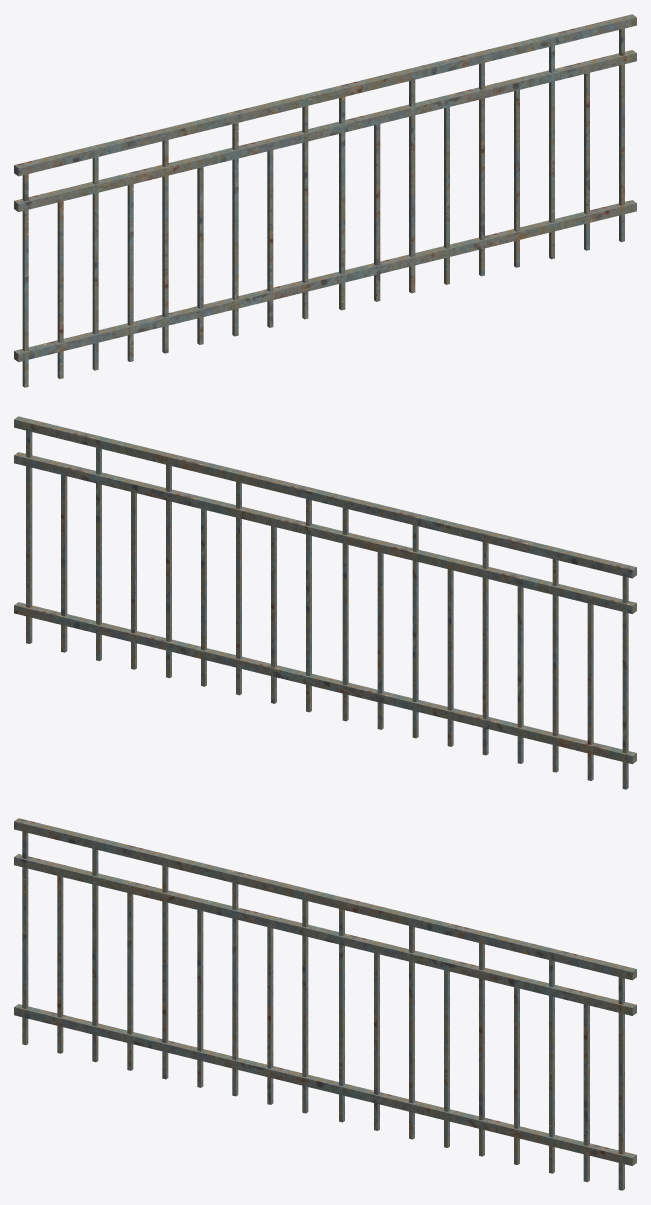
Rendered from fence23.FBX.
The picture shows the model from 3 angles, top to bottom: view 1: azimuth 30°, elevation 25°; view 2: azimuth 150°, elevation 25°; view 3: azimuth 330°, elevation 25°; orthographic projection.
Parts seen in each view (by area): view 1: metal_fence_large_mid_rail; view 2: metal_fence_large_mid_rail; view 3: metal_fence_large_mid_rail.
Part boxes in pixels (x1,y1,x2,y2): metal_fence_large_mid_rail: (14,14,636,387); metal_fence_large_mid_rail: (14,416,636,789); metal_fence_large_mid_rail: (14,818,636,1190).
Bounding box in the file's own units: 506 × 173 × 6.31.
